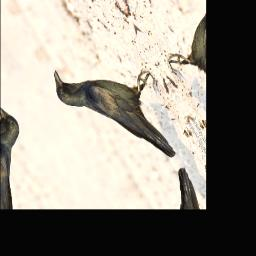Crow: (44, 30, 194, 193)
